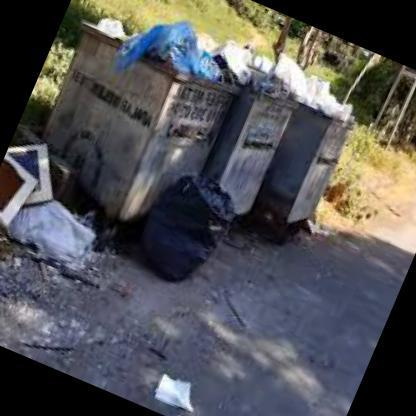Garbage: (102, 0, 350, 127), (132, 174, 236, 286), (112, 5, 228, 93), (6, 198, 94, 277)
